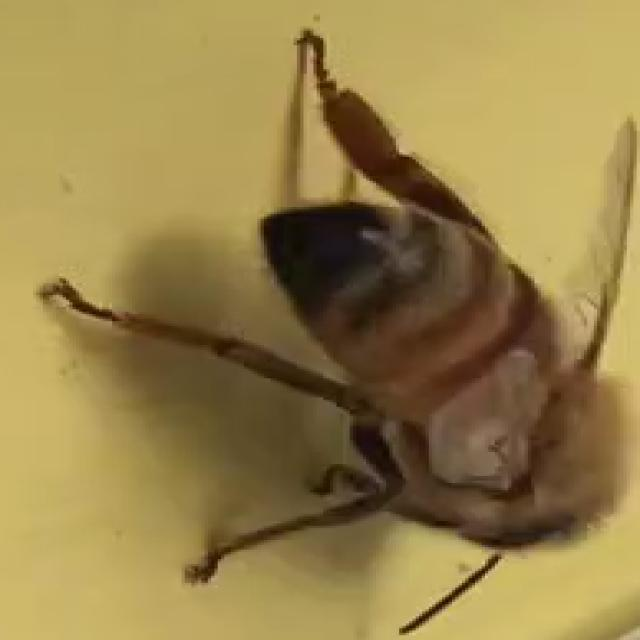honeybee: (150, 154, 640, 580)
